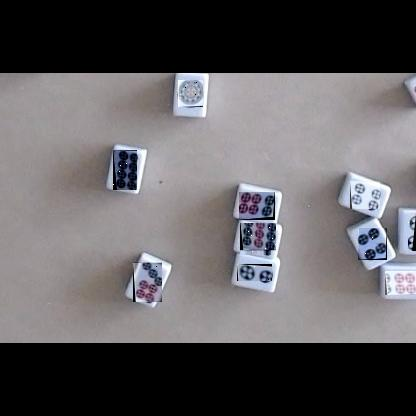1p: (178, 80, 203, 107)
2p: (237, 264, 272, 281), (408, 213, 416, 251)
4p: (358, 228, 387, 260), (350, 181, 380, 209)
6p: (239, 192, 275, 220), (385, 271, 416, 295)
7p: (133, 262, 162, 302)
8p: (113, 150, 137, 190)
9p: (240, 224, 276, 255)
